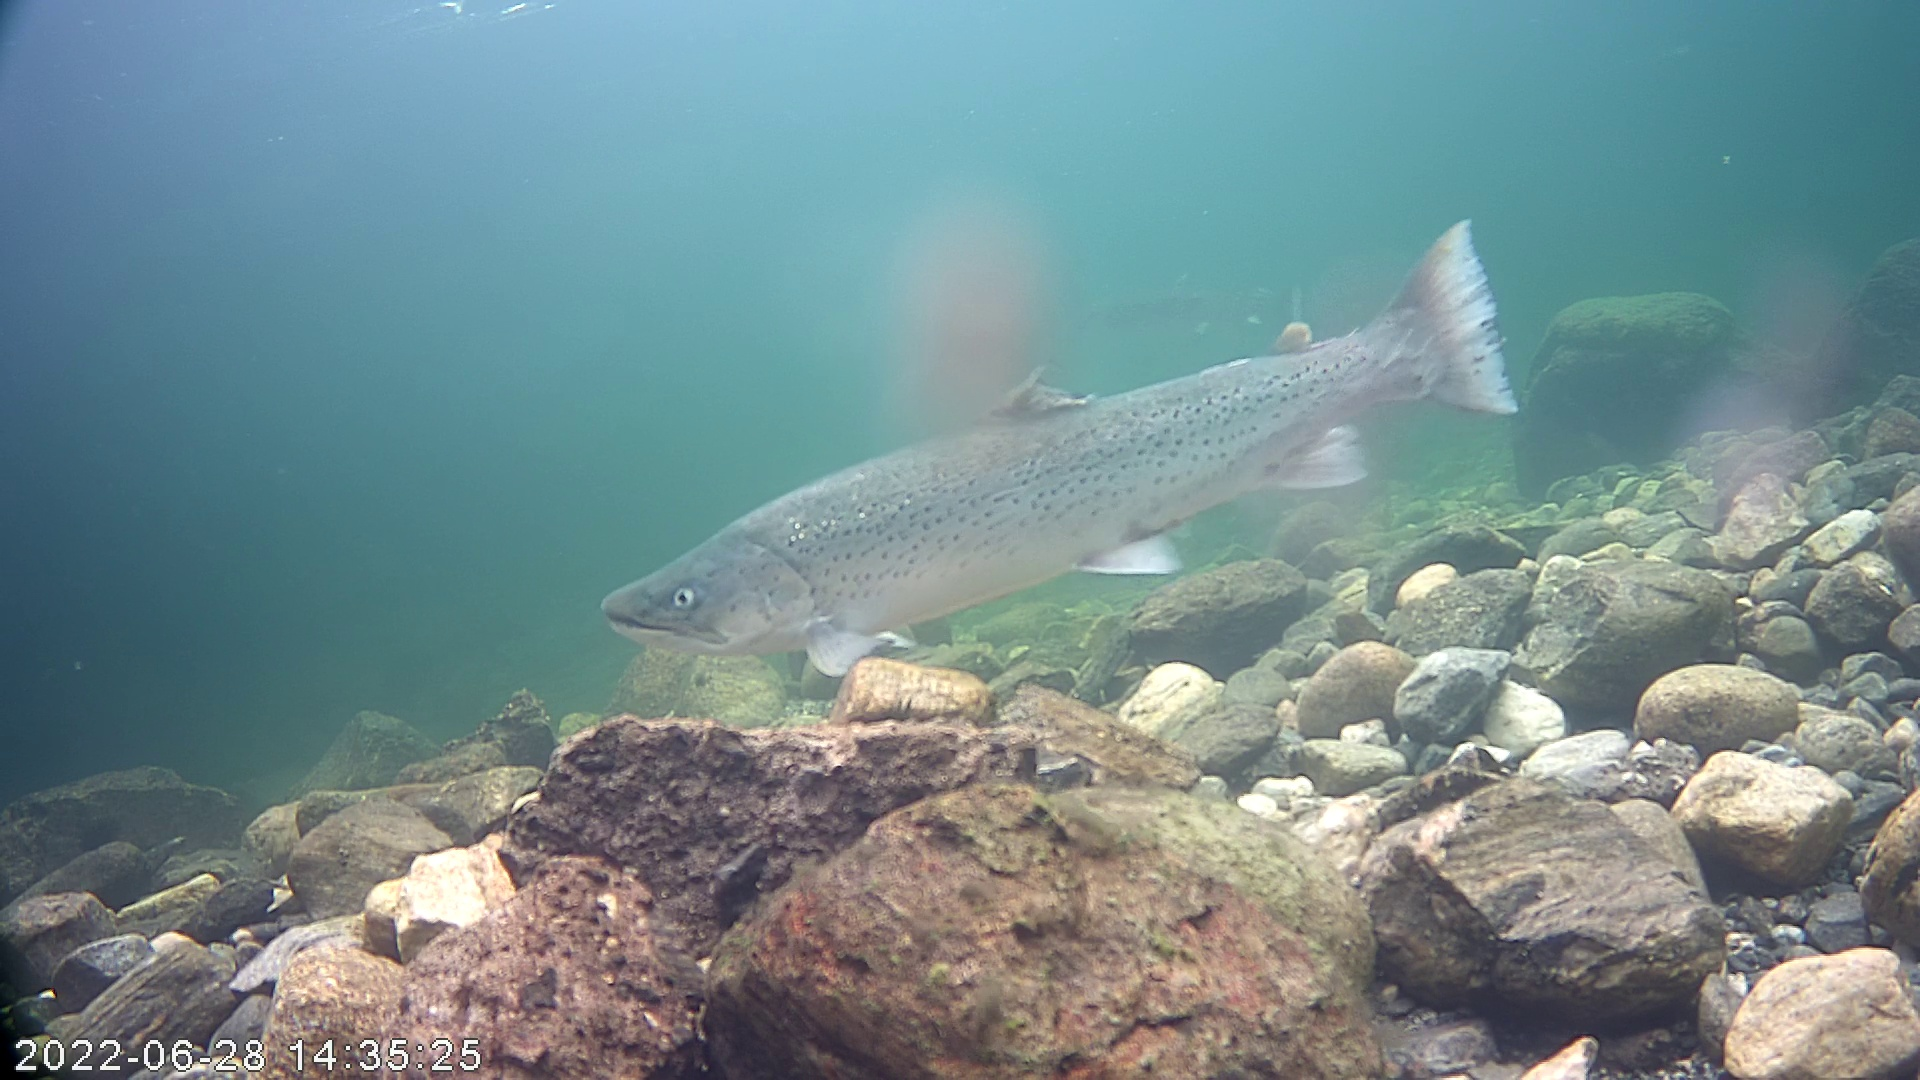salmon: (640, 200, 1547, 654)
